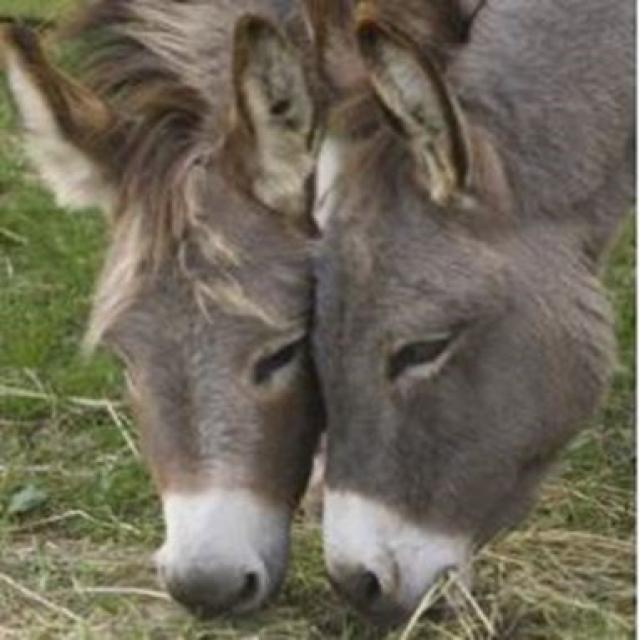Donkey: (316, 0, 638, 637), (2, 0, 321, 618)
